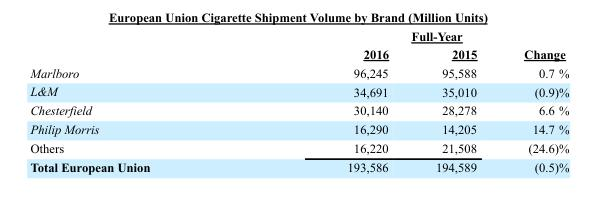table: (29, 28, 568, 173)
table column: (29, 28, 247, 173), (247, 28, 411, 173), (411, 28, 499, 173), (499, 28, 568, 173)
table column header: (29, 28, 568, 62)
table row: (29, 62, 568, 81), (29, 81, 568, 100), (29, 100, 568, 119), (29, 119, 568, 138), (29, 138, 568, 157), (29, 44, 568, 62), (29, 28, 568, 44), (29, 157, 568, 173)
table spanning cell: (247, 28, 568, 44)
